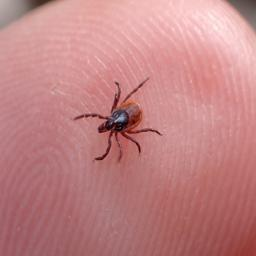Ixodes scapularis: (71, 77, 160, 161)
